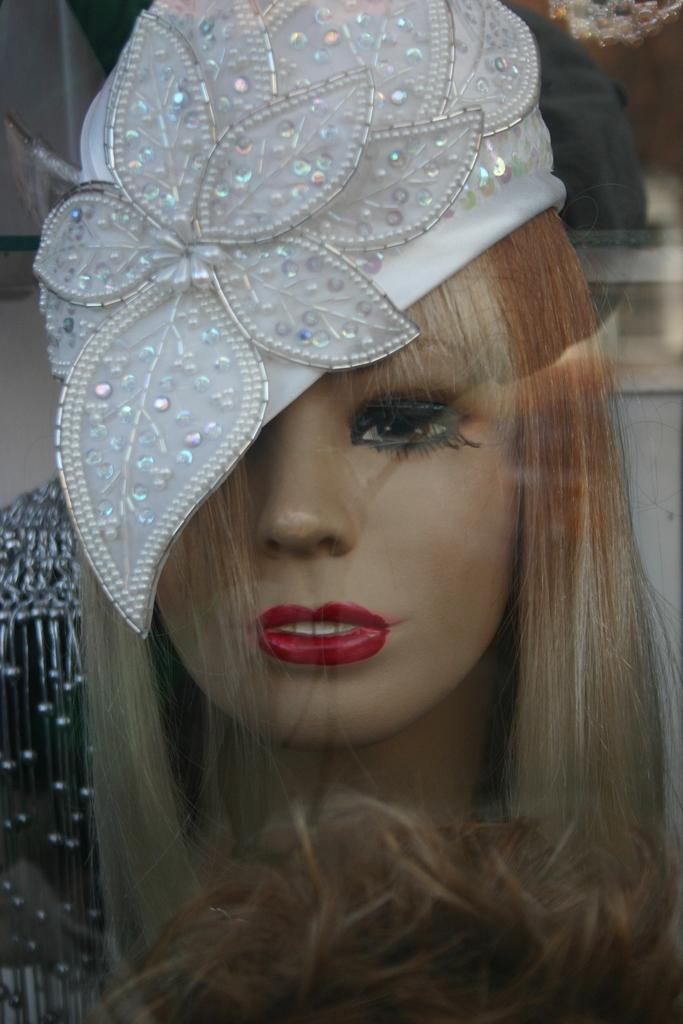Hat: (0, 0, 570, 642)
